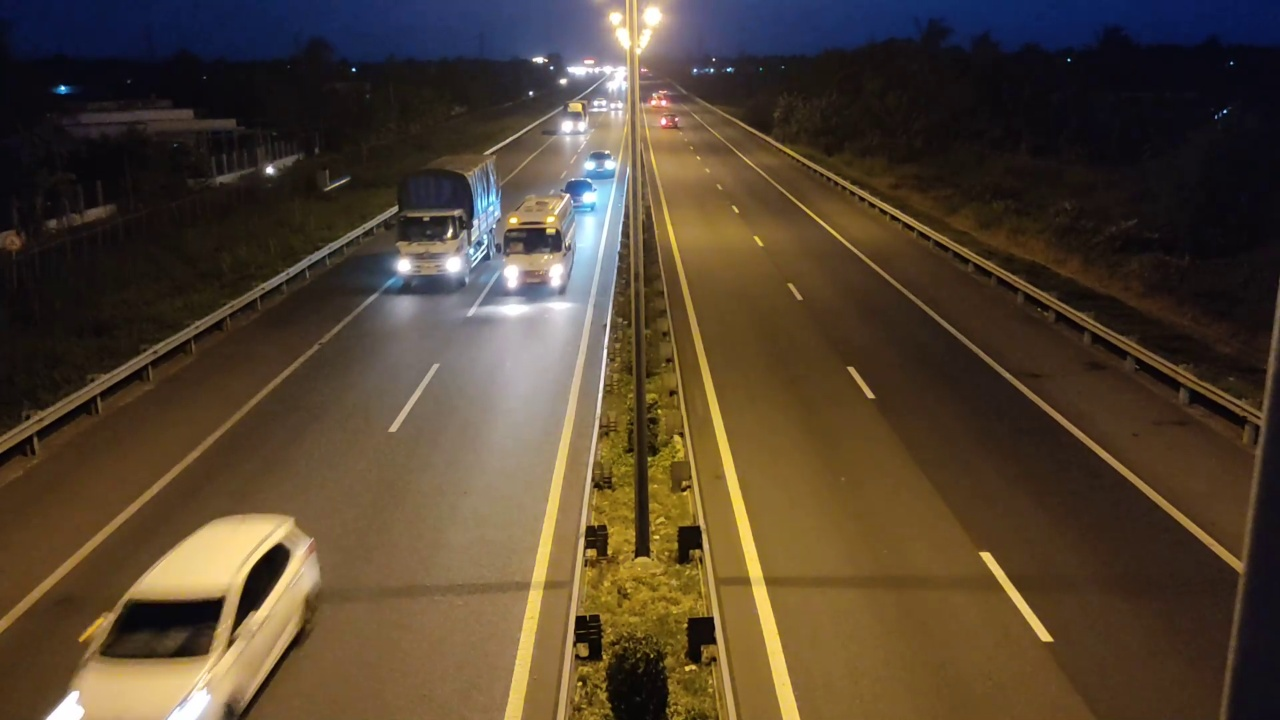bus: (496, 182, 579, 295)
car: (48, 512, 324, 718), (563, 177, 598, 211), (583, 150, 617, 179)
truck: (393, 152, 504, 293)
